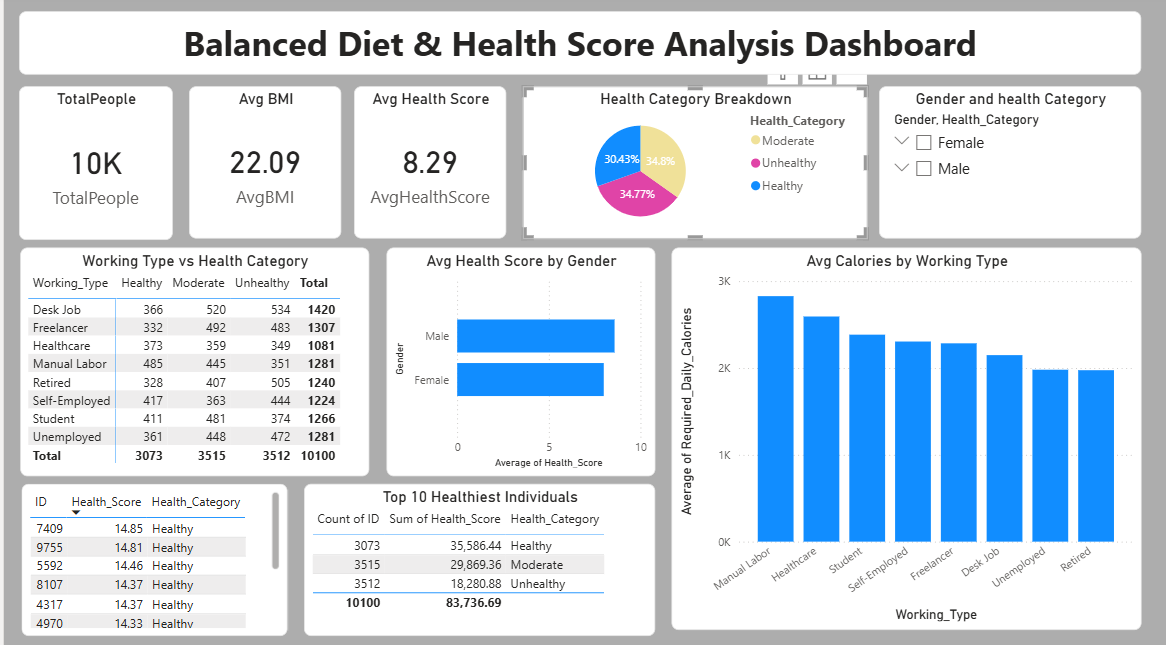

The page's visual inventory and layout, read from the dashboard file:
{"tool":"powerbi","page":{"name":"Page 1","canvas":[1280,720],"ordinal":0},"visuals":[{"type":"card","title":"TotalPeople","fields":{"Values":["clean_balanced_diet.TotalPeople"]},"box":[16.5,100.2,168.8,168.8],"z":0},{"type":"card","title":"Avg BMI","fields":{"Values":["clean_balanced_diet.AvgBMI"]},"box":[203.1,100.2,167.4,167.4],"z":1000},{"type":"card","title":"Avg Health Score","fields":{"Values":["clean_balanced_diet.AvgHealthScore"]},"box":[384.2,100.2,167.4,167.4],"z":2000},{"type":"pieChart","title":"Health Category Breakdown","fields":{"Category":["clean_balanced_diet.Health_Category"],"Y":["CountNonNull(clean_balanced_diet.ID)"]},"box":[569.5,100.2,378.7,167.4],"z":3000},{"type":"clusteredBarChart","title":"Avg Health Score by Gender","fields":{"Category":["clean_balanced_diet.Gender"],"Y":["Avg(clean_balanced_diet.Health_Score)"]},"box":[419.9,277.2,295,251.1],"z":4000},{"type":"pivotTable","title":"Working Type vs Health Category","fields":{"Rows":["clean_balanced_diet.Working_Type"],"Columns":["clean_balanced_diet.Health_Category"],"Values":["CountNonNull(clean_balanced_diet.ID)"]},"box":[17.8,277.2,382.8,251.1],"z":5000},{"type":"clusteredColumnChart","title":"Avg Calories by Working Type","fields":{"Category":["clean_balanced_diet.Working_Type"],"Y":["Avg(clean_balanced_diet.Required_Daily_Calories)"]},"box":[732.8,277.2,516,419.9],"z":6000},{"type":"tableEx","title":"Top 10 Healthiest Individuals","fields":{"Values":["CountNonNull(clean_balanced_diet.ID)","Sum(clean_balanced_diet.Health_Score)","clean_balanced_diet.Health_Category"]},"box":[329.3,536.5,385.6,167.4],"z":7000},{"type":"slicer","title":"Gender and health Category","fields":{"Values":["clean_balanced_diet.Gender","clean_balanced_diet.Health_Category"]},"box":[960.6,100.2,288.2,167.4],"z":8000},{"type":"tableEx","fields":{"Values":["clean_balanced_diet.ID","clean_balanced_diet.Health_Score","clean_balanced_diet.Health_Category"]},"box":[19.2,536.5,292.3,167.4],"z":9000},{"type":"textbox","box":[16.5,17.8,1232.3,70],"z":10000}]}

Visuals, with their boxes in screenshot pixels (x1, y1, x2, y2), scaled from the page's 1280x720 canvas onto the 1166x645 screenshot:
"TotalPeople" card: (15,90,169,241)
"Avg BMI" card: (185,90,338,240)
"Avg Health Score" card: (350,90,502,240)
"Health Category Breakdown" pieChart: (519,90,864,240)
"Avg Health Score by Gender" clusteredBarChart: (383,248,651,473)
"Working Type vs Health Category" pivotTable: (16,248,365,473)
"Avg Calories by Working Type" clusteredColumnChart: (668,248,1138,624)
"Top 10 Healthiest Individuals" tableEx: (300,481,651,631)
"Gender and health Category" slicer: (875,90,1138,240)
tableEx - clean_balanced_diet.ID x clean_balanced_diet.Health_Score: (17,481,284,631)
textbox: (15,16,1138,79)
